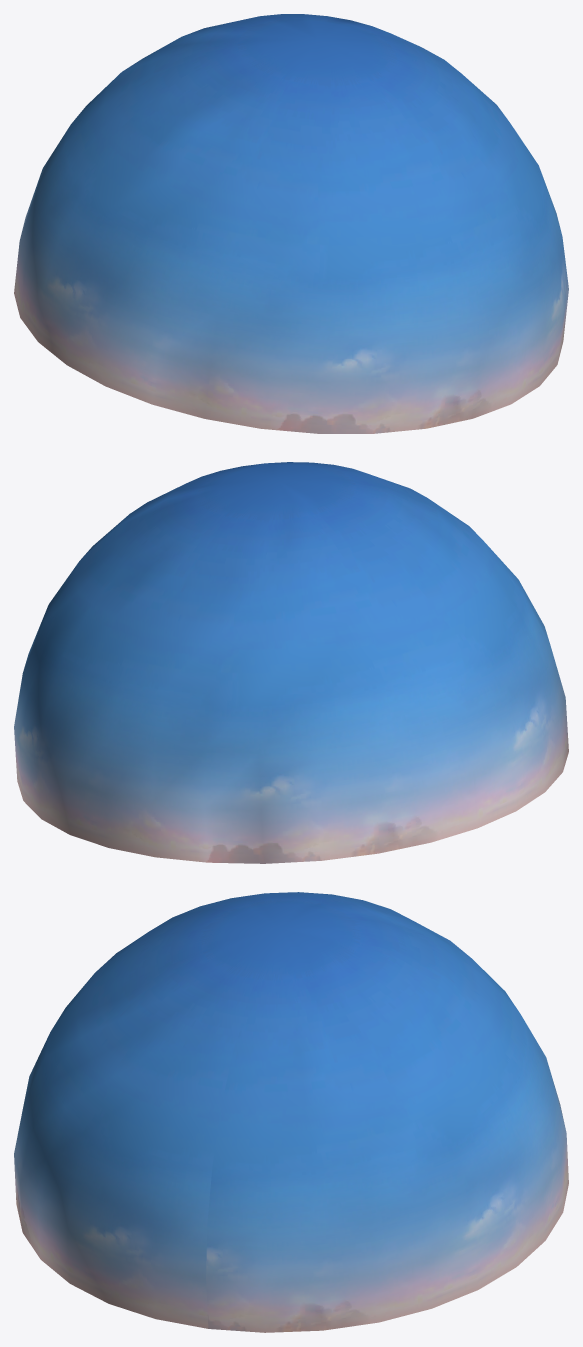
Rendered from pref_sm_sce_066302_skybox01_lv2.fbx.
3 views of the same model, one above another, from view 1: azimuth 30°, elevation 25°; view 2: azimuth 150°, elevation 25°; view 3: azimuth 270°, elevation 25° (orthographic).
Visible parts, largest first — view 1: pref_sm_sce_066302_skybox01_lv2; view 2: pref_sm_sce_066302_skybox01_lv2; view 3: pref_sm_sce_066302_skybox01_lv2.
Boxes of the visible parts, x1,y1,x2,y2 form: pref_sm_sce_066302_skybox01_lv2: (14,14,568,433); pref_sm_sce_066302_skybox01_lv2: (14,462,568,863); pref_sm_sce_066302_skybox01_lv2: (14,892,568,1332).
Size of the model in its own units: 392 by 235 by 393.
